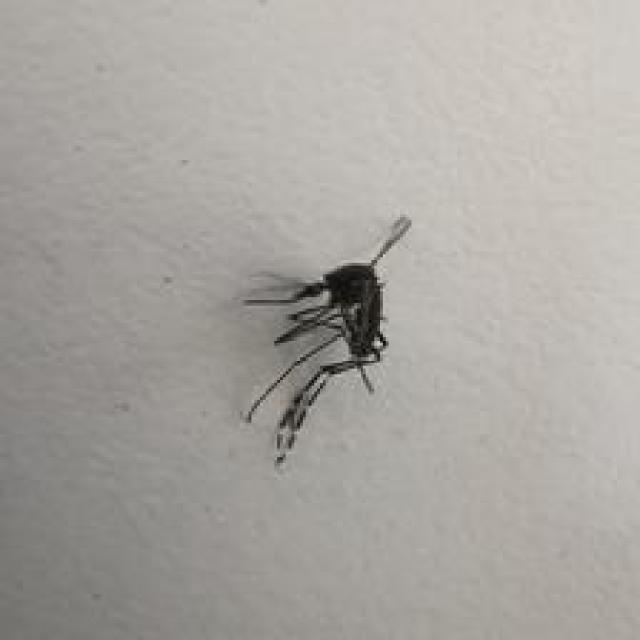Aedes albopictus: (240, 212, 414, 468)
